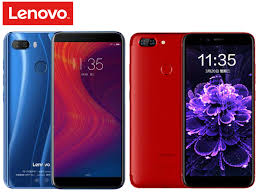lenovo: (129, 30, 259, 190), (1, 30, 124, 189), (49, 30, 126, 191), (179, 30, 257, 188)
